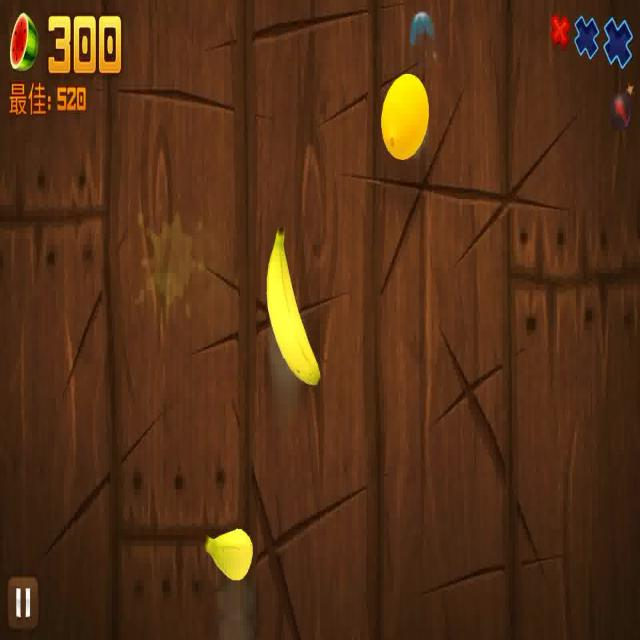fruit: (266, 221, 326, 398), (201, 520, 267, 601), (381, 72, 432, 158)
